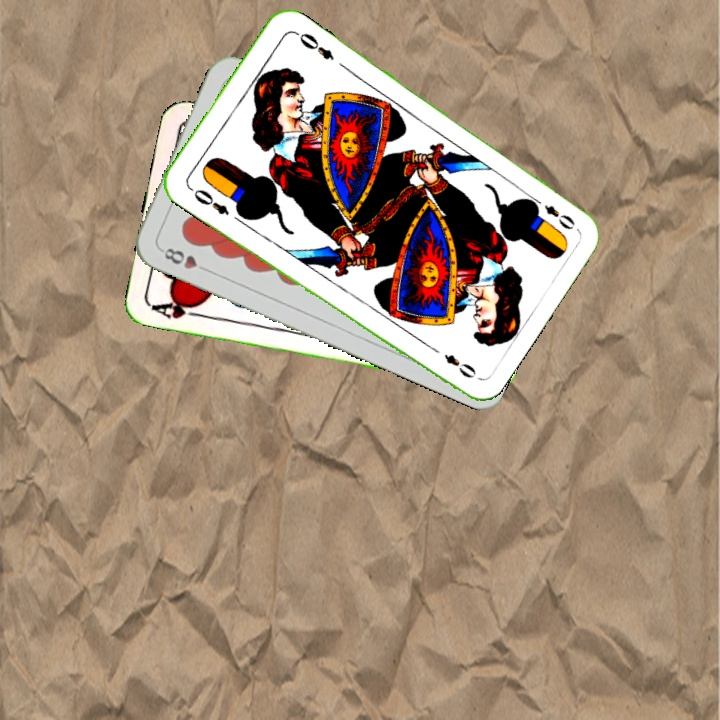EO: (527, 193, 578, 233), (185, 183, 232, 218)
H8: (156, 243, 213, 275)
HA: (147, 295, 205, 322)
